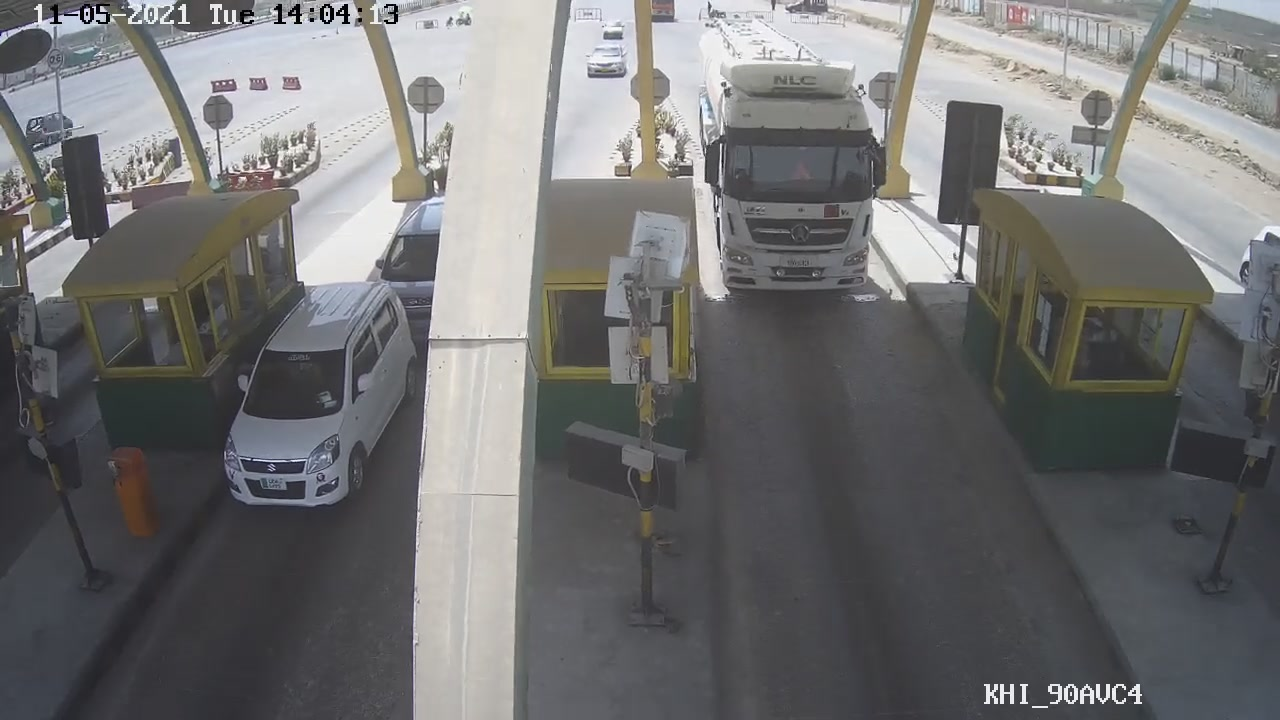F6: (694, 1, 893, 315)
